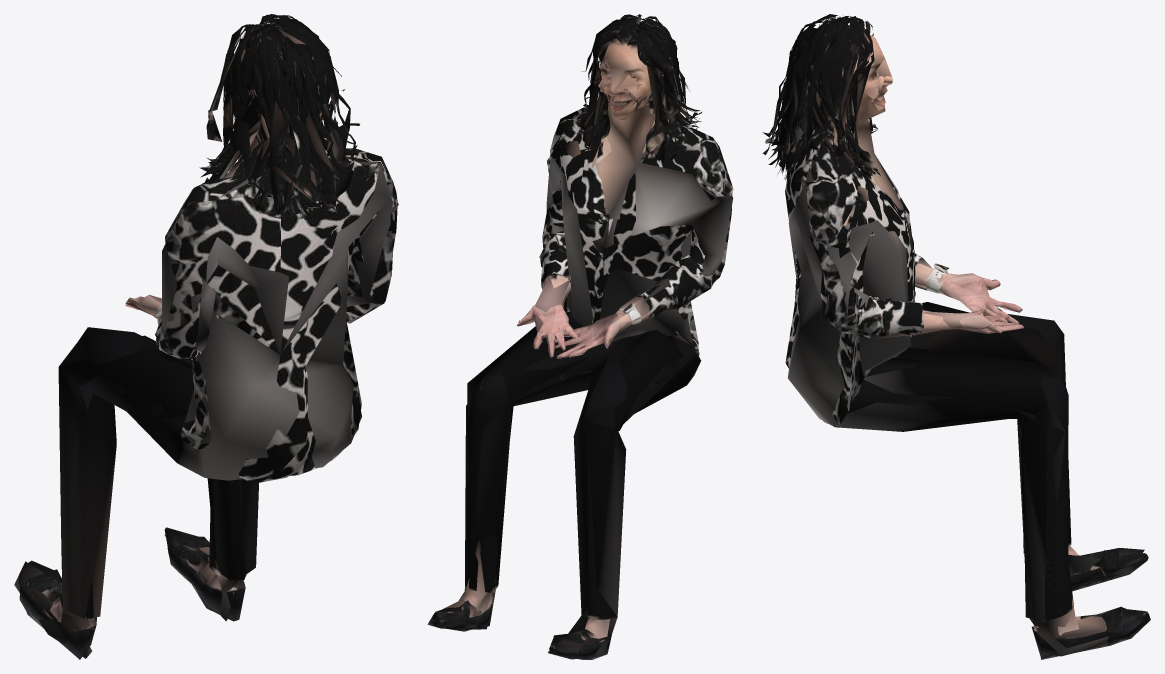
The model's file is persona-05.glb.
3 renders of one model, left to right at view 1: azimuth 30°, elevation 25°; view 2: azimuth 150°, elevation 25°; view 3: azimuth 270°, elevation 25°, orthographic. The views are drawn at different scales.
Parts seen in each view (by area): view 1: cerca, lejos; view 2: cerca, lejos; view 3: cerca, lejos.
Part boxes in pixels (bbox=[...]): cerca: bbox=[19, 14, 398, 659]; lejos: bbox=[14, 15, 396, 658]; cerca: bbox=[427, 14, 733, 659]; lejos: bbox=[437, 16, 733, 659]; cerca: bbox=[762, 14, 1150, 659]; lejos: bbox=[770, 21, 1144, 656].
Bounding box in the file's own units: 0.4839 × 1.41 × 0.8158.
Materials: 2 (1 with a texture image).
